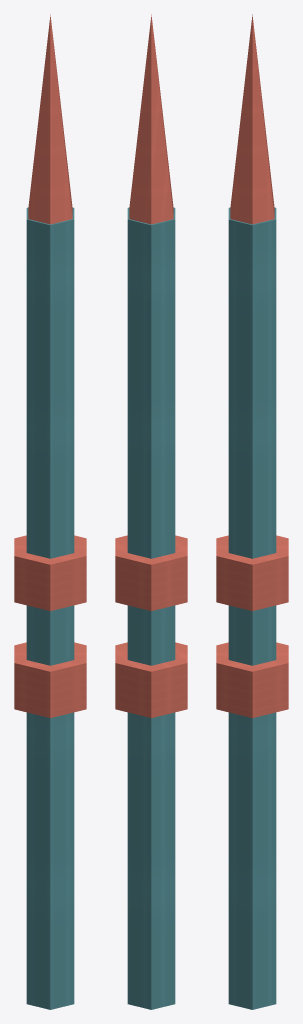
The model's file is atlas100-s071-a05.lod2.glb.
The picture shows the model from 3 angles, left to right: view 1: azimuth 90°, elevation 25°; view 2: azimuth 210°, elevation 25°; view 3: azimuth 270°, elevation 25°; orthographic projection.
Parts seen in each view (by area): view 1: atlas100-s071-a05:part-000, atlas100-s071-a05:part-004, atlas100-s071-a05:part-002, atlas100-s071-a05:part-003; view 2: atlas100-s071-a05:part-000, atlas100-s071-a05:part-004, atlas100-s071-a05:part-002, atlas100-s071-a05:part-003; view 3: atlas100-s071-a05:part-000, atlas100-s071-a05:part-004, atlas100-s071-a05:part-002, atlas100-s071-a05:part-003.
Part boxes in pixels (x1,y1,x2,y2): atlas100-s071-a05:part-000: (26, 207, 74, 1009); atlas100-s071-a05:part-004: (28, 14, 72, 224); atlas100-s071-a05:part-002: (14, 642, 86, 717); atlas100-s071-a05:part-003: (14, 535, 86, 610); atlas100-s071-a05:part-000: (127, 207, 175, 1009); atlas100-s071-a05:part-004: (129, 14, 173, 224); atlas100-s071-a05:part-002: (115, 642, 187, 717); atlas100-s071-a05:part-003: (115, 535, 187, 610); atlas100-s071-a05:part-000: (228, 207, 276, 1009); atlas100-s071-a05:part-004: (230, 14, 274, 224); atlas100-s071-a05:part-002: (216, 642, 288, 717); atlas100-s071-a05:part-003: (216, 535, 288, 610).
Bounding box in the file's own units: 0.1158 × 1.51 × 0.1002.
Materials: 2 (2 with a texture image).
